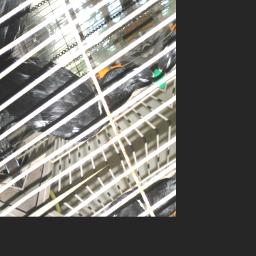Crow: (0, 0, 161, 186)
